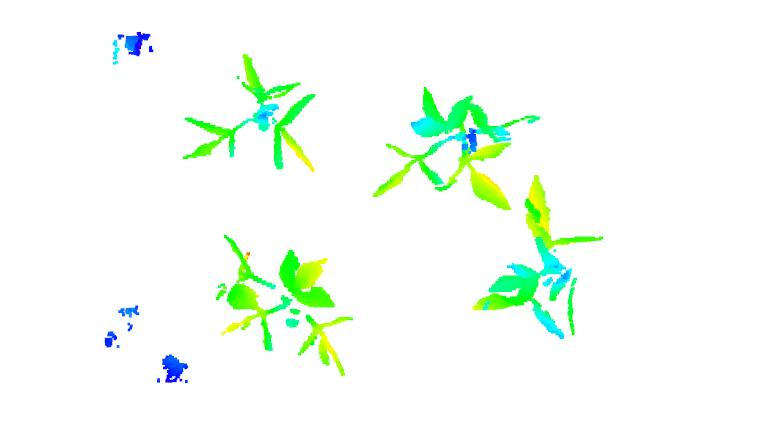mungbean: (470, 178, 602, 340), (368, 87, 523, 214), (217, 234, 355, 374), (178, 53, 317, 176)
